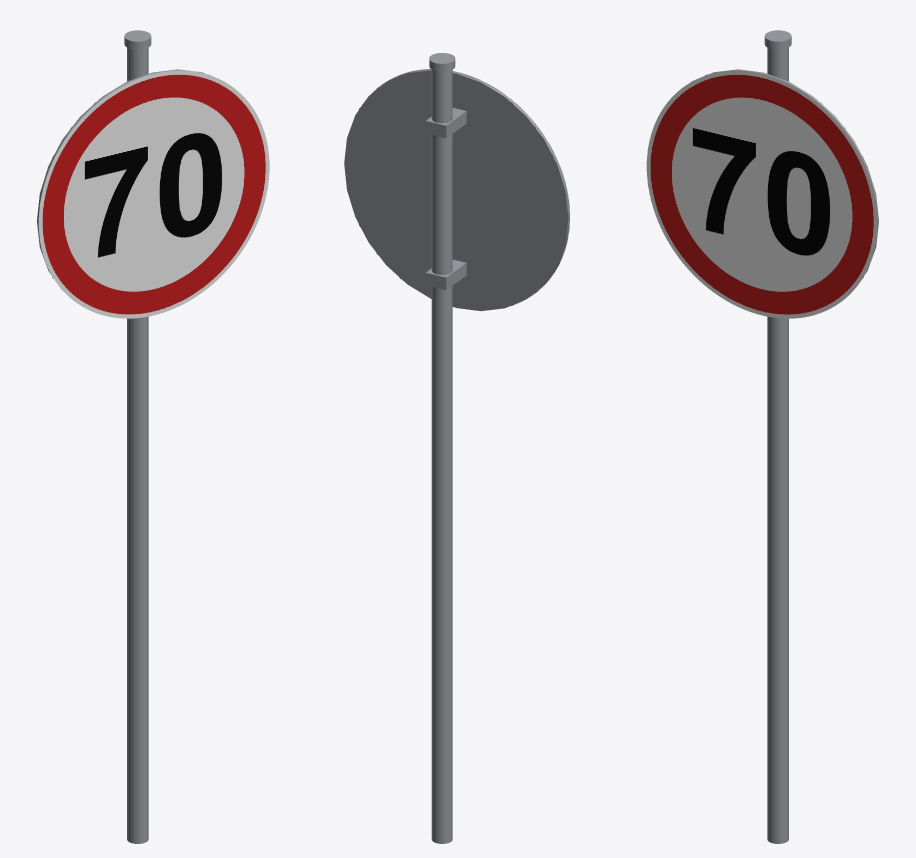
Rendered from sign_speed70kph.dae.
The picture shows the model from 3 angles, left to right: view 1: azimuth 30°, elevation 25°; view 2: azimuth 150°, elevation 25°; view 3: azimuth 330°, elevation 25°; orthographic projection. The views are drawn at different scales.
Visible parts, largest first — view 1: sign128, sign48, sign4; view 2: sign128, sign48, sign4; view 3: sign128, sign48, sign4.
Part boxes in pixels (box(x1,y1,x2,y2)): sign128: box(37, 30, 269, 843); sign48: box(52, 30, 210, 843); sign4: box(70, 30, 150, 843); sign128: box(344, 53, 569, 843); sign48: box(344, 53, 567, 843); sign4: box(344, 53, 567, 843); sign128: box(646, 30, 878, 843); sign48: box(705, 30, 863, 843); sign4: box(765, 30, 845, 843).
Size of the model in its own units: 0.9 by 0.1275 by 2.47.
2 materials, 1 textured.
